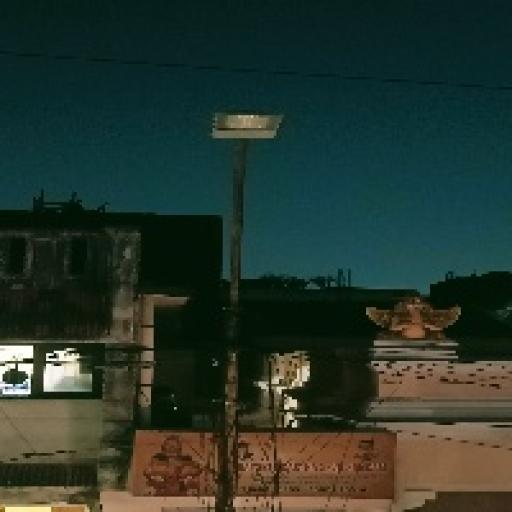Not Working: (202, 100, 296, 161)
